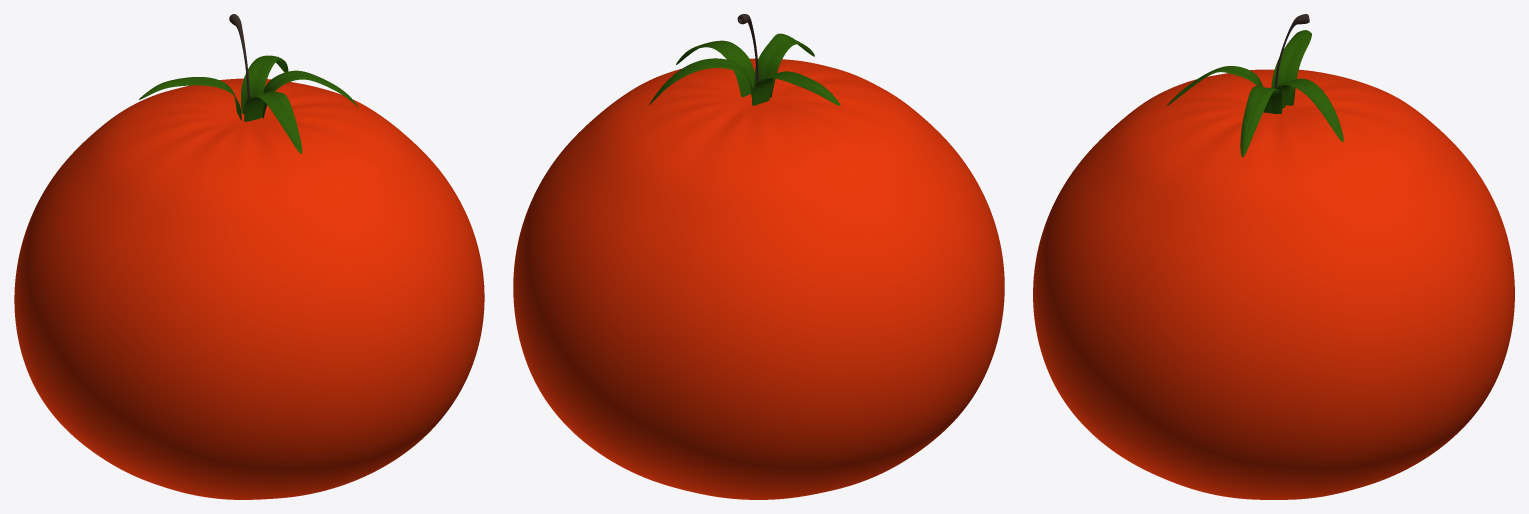
File: tomato.fbx
The picture shows the model from 3 angles, left to right: view 1: azimuth 30°, elevation 25°; view 2: azimuth 150°, elevation 25°; view 3: azimuth 270°, elevation 25°; orthographic projection. The views are drawn at different scales.
Visible parts, largest first — view 1: Cube, Plane; view 2: Cube, Plane; view 3: Cube, Plane.
Boxes of the visible parts, <box> form: Cube: <box>14,78,484,499</box>; Plane: <box>139,55,358,153</box>; Cube: <box>513,58,1004,499</box>; Plane: <box>649,33,840,105</box>; Cube: <box>1033,69,1514,499</box>; Plane: <box>1167,30,1343,157</box>.
Size of the model in its own units: 192 by 194 by 192.
